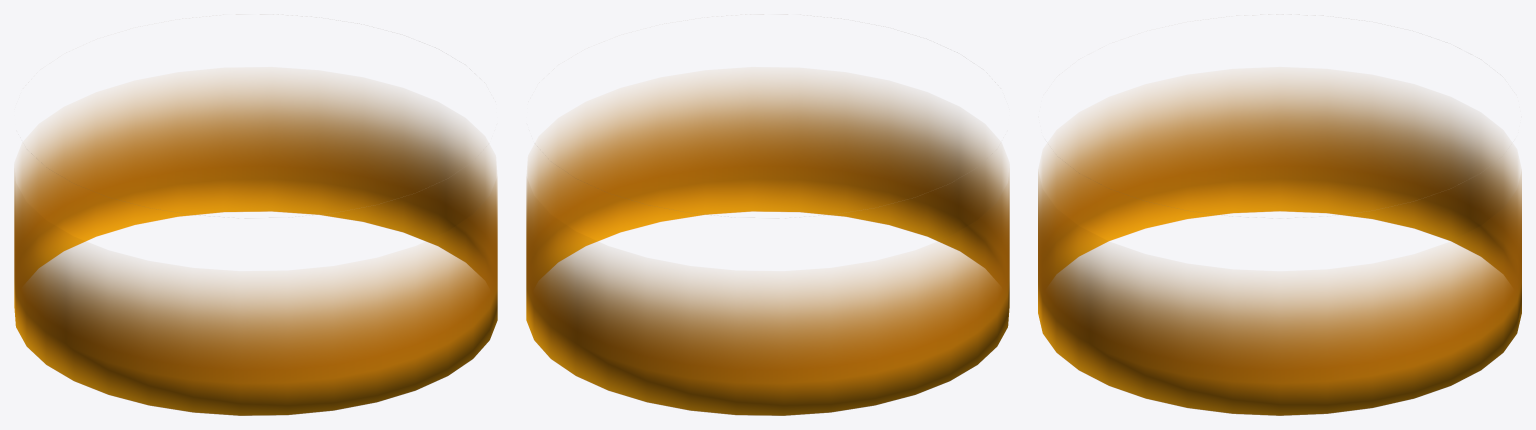
The picture shows the model from 3 angles, left to right: view 1: azimuth 30°, elevation 25°; view 2: azimuth 150°, elevation 25°; view 3: azimuth 270°, elevation 25°; orthographic projection.
Parts seen in each view (by area): view 1: Cylinder; view 2: Cylinder; view 3: Cylinder.
Part boxes in pixels (bbox=[...]): Cylinder: bbox=[14, 14, 497, 415]; Cylinder: bbox=[526, 14, 1009, 415]; Cylinder: bbox=[1038, 14, 1521, 415].
Size of the model in its own units: 2.06 by 0.9301 by 2.06.
Materials: 1 (1 with a texture image).
